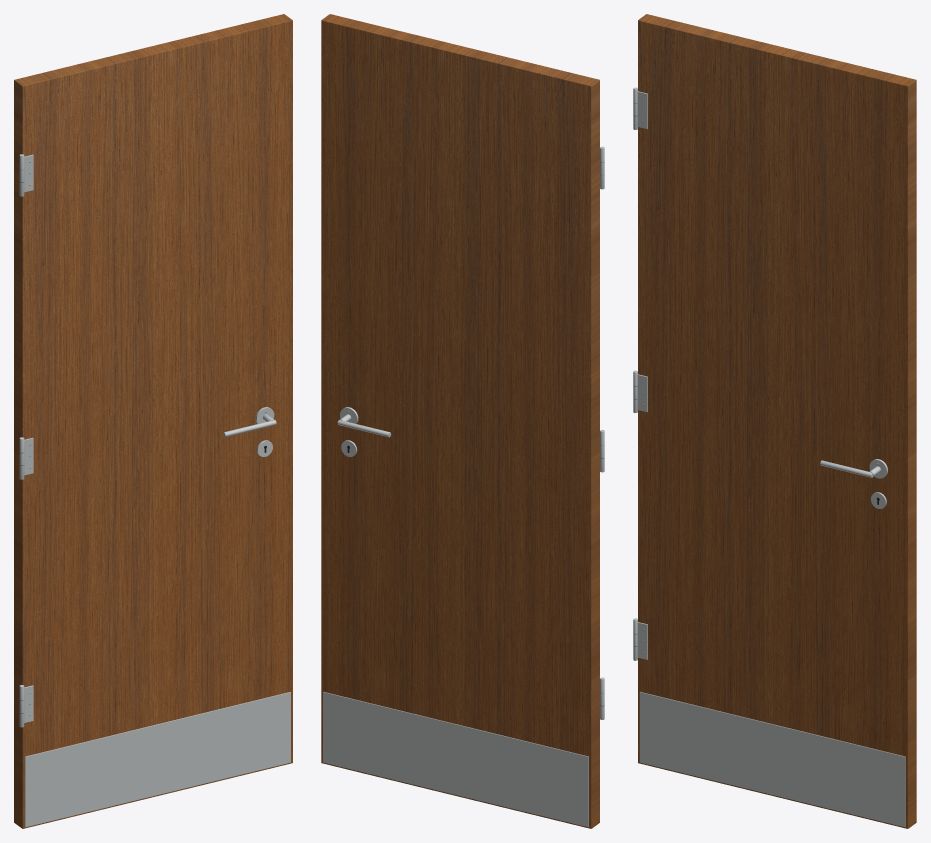
The model's file is clubhouse_door_rear_leaf_800.glb.
The picture shows the model from 3 angles, left to right: view 1: azimuth 30°, elevation 25°; view 2: azimuth 150°, elevation 25°; view 3: azimuth 330°, elevation 25°; orthographic projection.
Parts seen in each view (by area): view 1: ReferenceMatchedSatinTimber, BrushedStainlessSteel; view 2: ReferenceMatchedSatinTimber, BrushedStainlessSteel; view 3: ReferenceMatchedSatinTimber, BrushedStainlessSteel.
Part boxes in pixels (x1,y1,x2,y2): ReferenceMatchedSatinTimber: (14,14,292,828); BrushedStainlessSteel: (19,154,290,827); ReferenceMatchedSatinTimber: (321,14,599,828); BrushedStainlessSteel: (323,146,604,827); ReferenceMatchedSatinTimber: (638,14,916,828); BrushedStainlessSteel: (633,87,905,827).
Bounding box in the file's own units: 0.8102 × 2.1 × 0.1494.
Materials: 3 (1 with a texture image).
